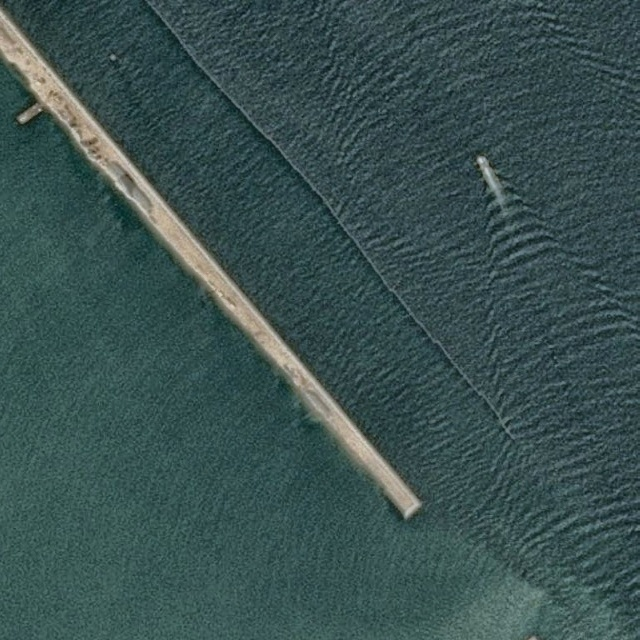wake: (435, 132, 588, 321)
